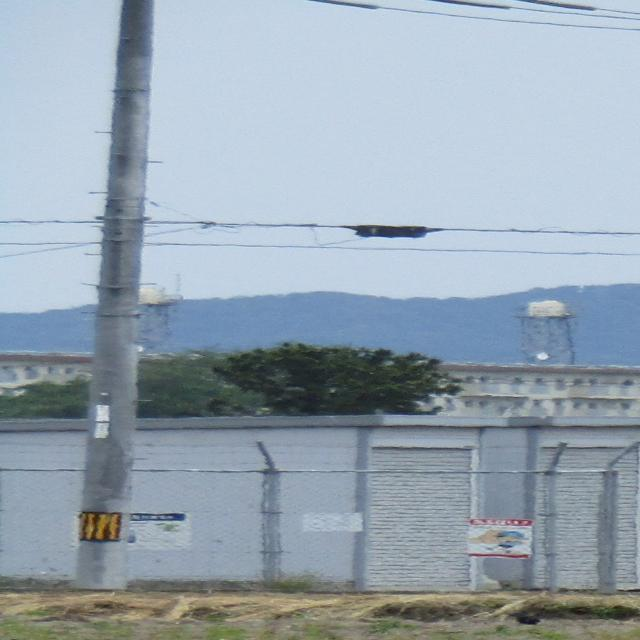pole: (24, 2, 250, 598)
